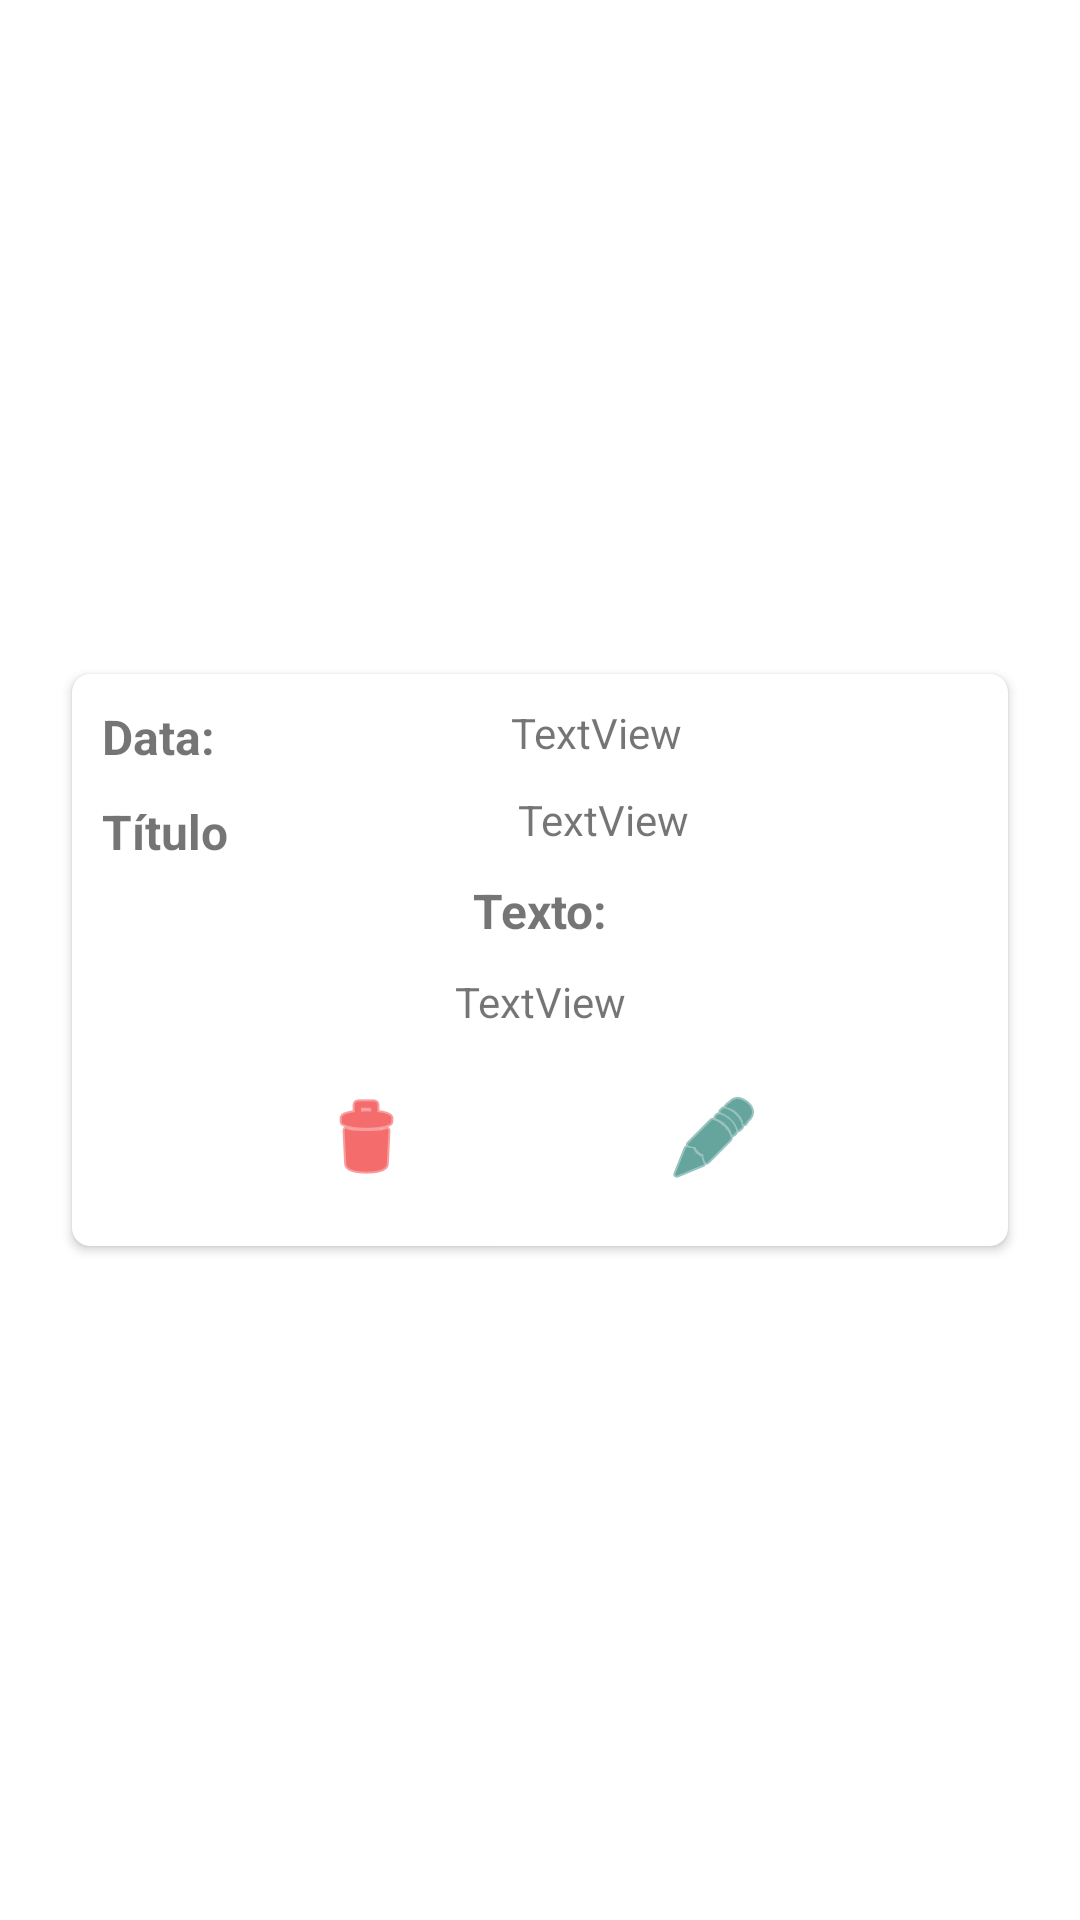

Icon click points for this 1080x1920 phone screenshot, format (x=x, y=y):
icone deletar: (x=366, y=1136)
icone editar: (x=713, y=1137)
